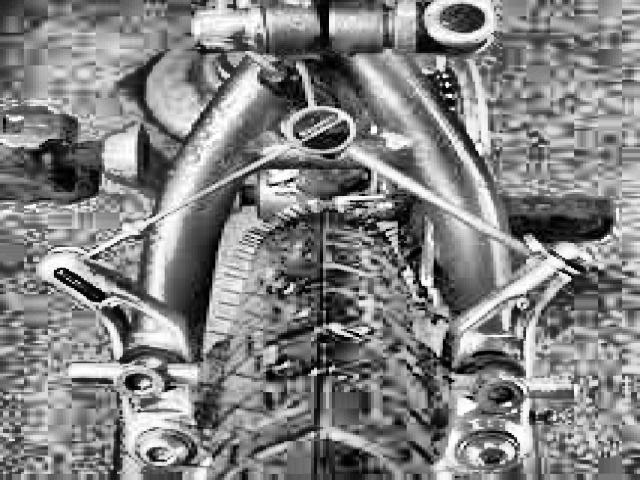rim_brake: (38, 171, 593, 470)
